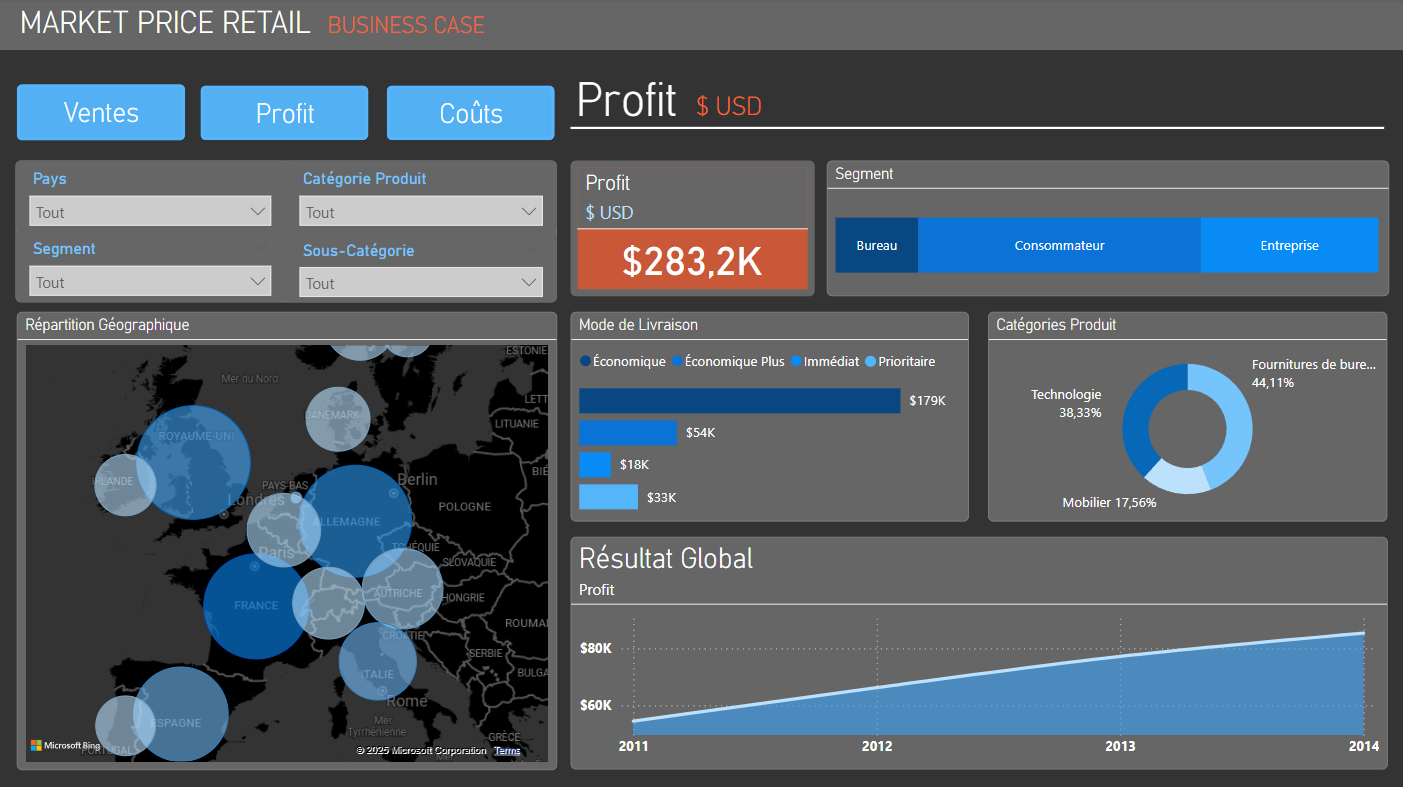

The dashboard page shown, as its layout file describes it:
{"tool":"powerbi","page":{"name":"Vue Globale","canvas":[1280,720],"ordinal":0},"visuals":[{"type":"shape","box":[16,147,491,129],"z":0},{"type":"clusteredBarChart","title":"Mode de Livraison","fields":{"Series":["Market_retail_nettoye.Mode Livraison"],"Y":["Sum(Market_retail_nettoye.CA TTC)"]},"box":[520,283.8,361.2,190],"z":0,"group":"g1"},{"type":"shape","box":[0,0,1280,47.5],"z":1000},{"type":"donutChart","title":"Catégories Produit","fields":{"Y":["Sum(Market_retail_nettoye.CA TTC)"],"Category":["Market_retail_nettoye.Catégorie"]},"box":[898.8,283.8,362.5,190],"z":1000,"group":"g1"},{"type":"slicer","fields":{"Values":["Market_retail_nettoye.Pays"]},"box":[16,147,245,64],"z":2000},{"type":"shape","box":[520,98.6,741.4,38.6],"z":3000},{"type":"textbox","box":[14.5,0,445.6,47.7],"z":4000},{"type":"slicer","fields":{"Values":["Market_retail_nettoye.Segment"]},"box":[16,211,245,65],"z":5000},{"type":"slicer","fields":{"Values":["Market_retail_nettoye.Catégorie"]},"box":[261,147,246,64],"z":6000},{"type":"slicer","fields":{"Values":["Market_retail_nettoye.Sous-Catégorie"]},"box":[261,212,246,64],"z":7000},{"type":"actionButton","box":[17,78.3,153.1,51],"z":8000},{"type":"actionButton","box":[183.7,79.4,153.1,49.9],"z":9000},{"type":"actionButton","box":[352.7,79.4,153.1,49.9],"z":10000},{"type":"map","title":"Répartition Géographique","fields":{"Category":["Market_retail_nettoye.Pays"],"Size":["Sum(Market_retail_nettoye.Ventes)"]},"box":[15,283.8,491.2,416.2],"z":11000},{"type":"areaChart","title":"Résultat Global","fields":{"Category":["Date.Année"],"Y":["Sum(Market_retail_nettoye.CA TTC)"],"Y2":["Sum(Market_retail_nettoye.Quantité)"]},"box":[520,488.8,741.2,211.2],"z":12000},{"type":"card","title":"Total Ventes","fields":{"Values":["Sum(Market_retail_nettoye.CA TTC)"]},"box":[518.6,147.1,221.4,122.9],"z":13000},{"type":"group","id":"g1","title":"Groupe 2","box":[520,283.8,741.2,190],"z":14000},{"type":"textbox","title":"Ventes","box":[520,67.1,264.3,45.7],"z":15000},{"type":"hundredPercentStackedBarChart","title":"Segment","fields":{"Y":["Sum(Market_retail_nettoye.CA TTC)"],"Series":["Market_retail_nettoye.Segment"]},"box":[750,147.1,510,122.9],"z":16000},{"type":"textbox","title":"$ USD","box":[661.5,84.9,176.9,26.5],"z":17000},{"type":"actionButton","title":"Vtes appuyé","box":[16.6,77.7,154.4,51.8],"z":31000}]}

Visuals, with their boxes in screenshot pixels (x1, y1, x2, y2), scaled from the page's 1280x720 canvas onto the 1403x787 screenshot:
shape: (18, 161, 556, 302)
"Mode de Livraison" clusteredBarChart: (570, 310, 966, 518)
shape: (0, 0, 1402, 52)
"Catégories Produit" donutChart: (985, 310, 1383, 518)
slicer - Market_retail_nettoye.Pays: (18, 161, 286, 231)
shape: (570, 108, 1383, 150)
textbox: (16, 0, 504, 52)
slicer - Market_retail_nettoye.Segment: (18, 231, 286, 302)
slicer - Market_retail_nettoye.Catégorie: (286, 161, 556, 231)
slicer - Market_retail_nettoye.Sous-Catégorie: (286, 232, 556, 302)
actionButton: (19, 86, 186, 141)
actionButton: (201, 87, 369, 141)
actionButton: (387, 87, 554, 141)
"Répartition Géographique" map: (16, 310, 555, 765)
"Résultat Global" areaChart: (570, 534, 1382, 765)
"Total Ventes" card: (568, 161, 811, 295)
"Groupe 2" group: (570, 310, 1382, 518)
"Ventes" textbox: (570, 73, 860, 123)
"Segment" hundredPercentStackedBarChart: (822, 161, 1381, 295)
"$ USD" textbox: (725, 93, 919, 122)
"Vtes appuyé" actionButton: (18, 85, 187, 142)
